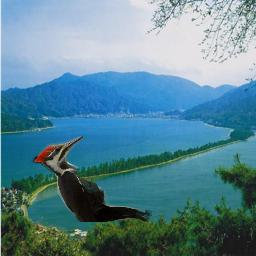Woodpecker: (27, 136, 152, 222)
